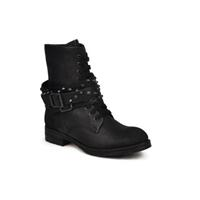shoe: (40, 39, 150, 156)
